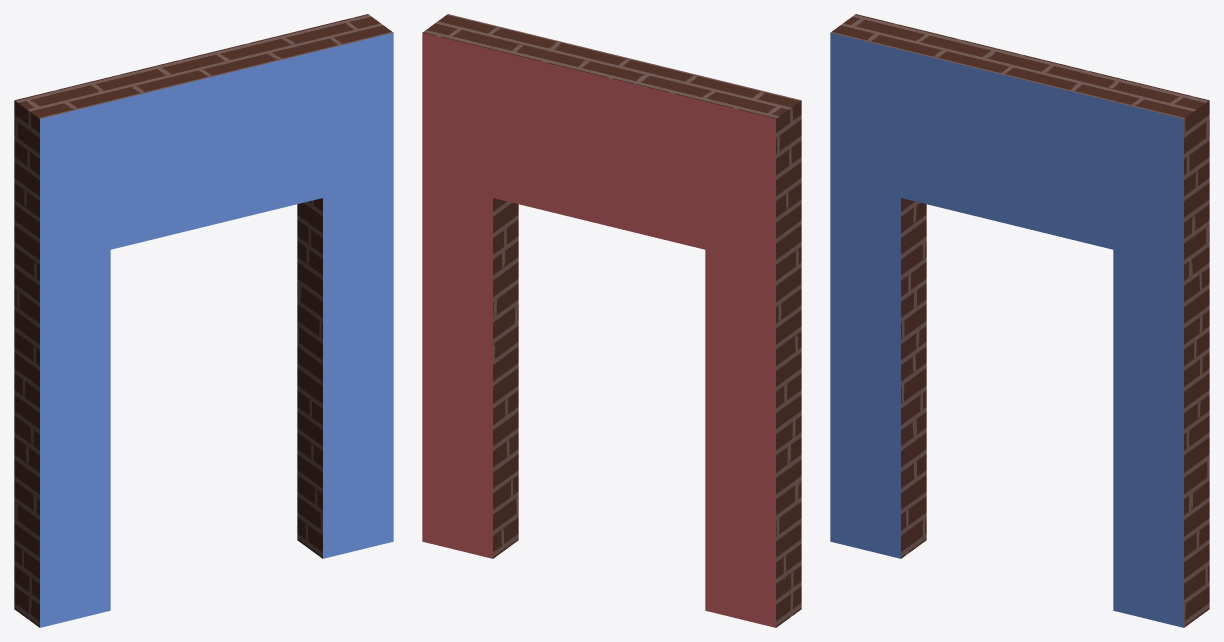
The model's file is WALL2_4x5.5.fbx.
3 renders of one model, left to right at view 1: azimuth 30°, elevation 25°; view 2: azimuth 150°, elevation 25°; view 3: azimuth 330°, elevation 25°, orthographic.
Visible parts, largest first — view 1: wall2_4x5.5; view 2: wall2_4x5.5; view 3: wall2_4x5.5.
Part boxes in pixels (x1,y1,x2,y2): wall2_4x5.5: (14, 14, 393, 627); wall2_4x5.5: (422, 14, 801, 627); wall2_4x5.5: (830, 14, 1209, 627).
Bounding box in the file's own units: 400 × 550 × 50.
Materials: 3 (1 with a texture image).
